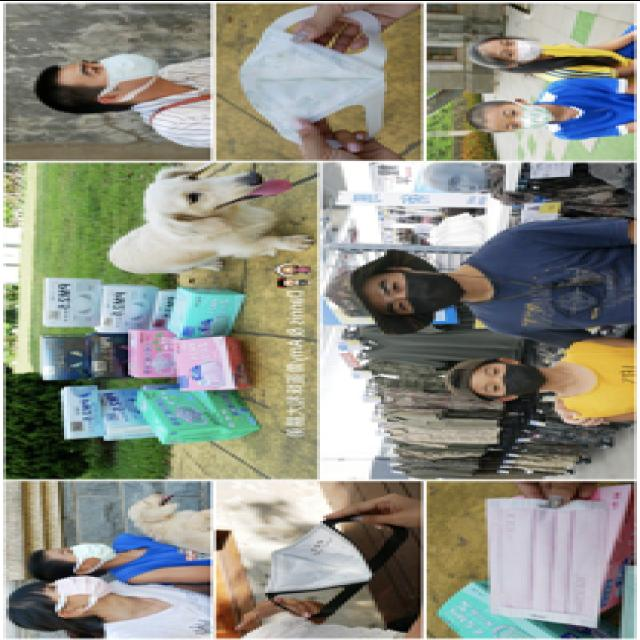with_mask: (374, 268, 466, 314), (74, 50, 162, 90), (476, 362, 548, 396), (42, 574, 110, 604), (496, 100, 554, 130), (55, 541, 116, 565), (490, 35, 542, 59)
